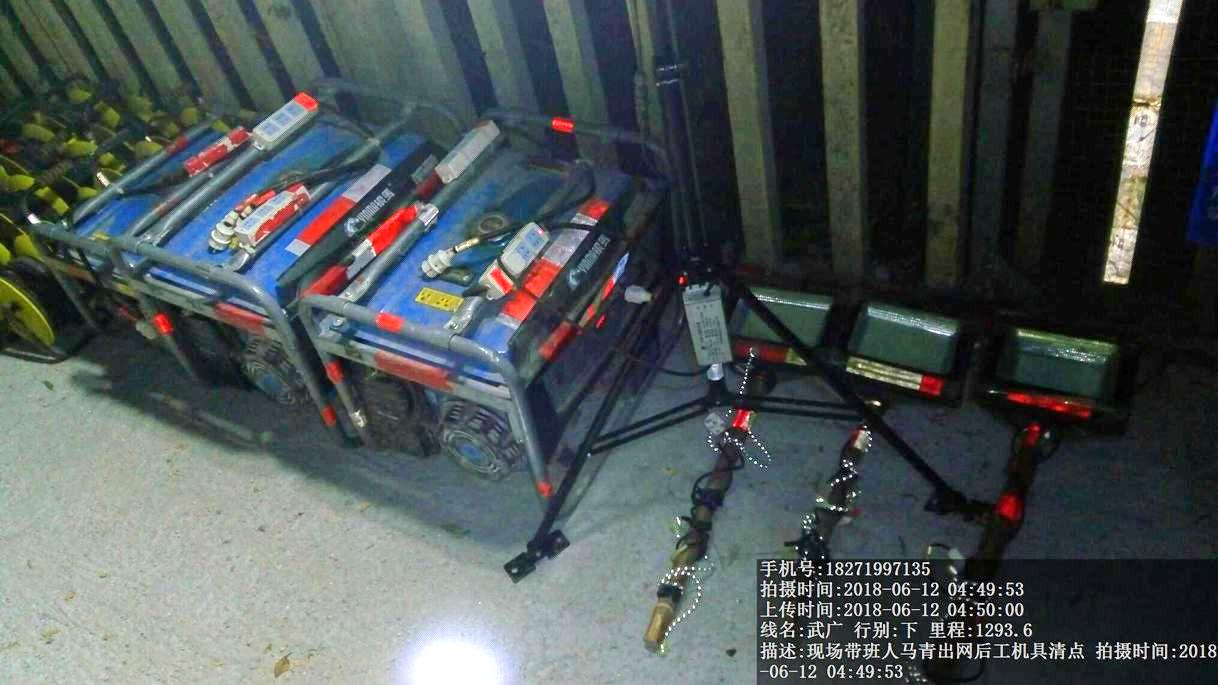DJ: (335, 129, 658, 475), (153, 124, 406, 422)
